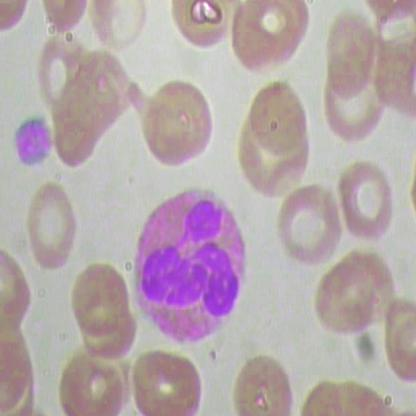Platelets: (6, 115, 53, 170)
RBC: (130, 77, 212, 173), (229, 1, 311, 81), (272, 181, 342, 274), (308, 257, 376, 342), (23, 180, 82, 276), (334, 160, 394, 252), (129, 343, 204, 415), (246, 81, 309, 162), (322, 12, 378, 100), (66, 264, 130, 338), (159, 1, 243, 53), (56, 354, 127, 415), (226, 354, 297, 415), (86, 1, 148, 53), (35, 1, 89, 39)
WBC: (130, 179, 250, 347)
